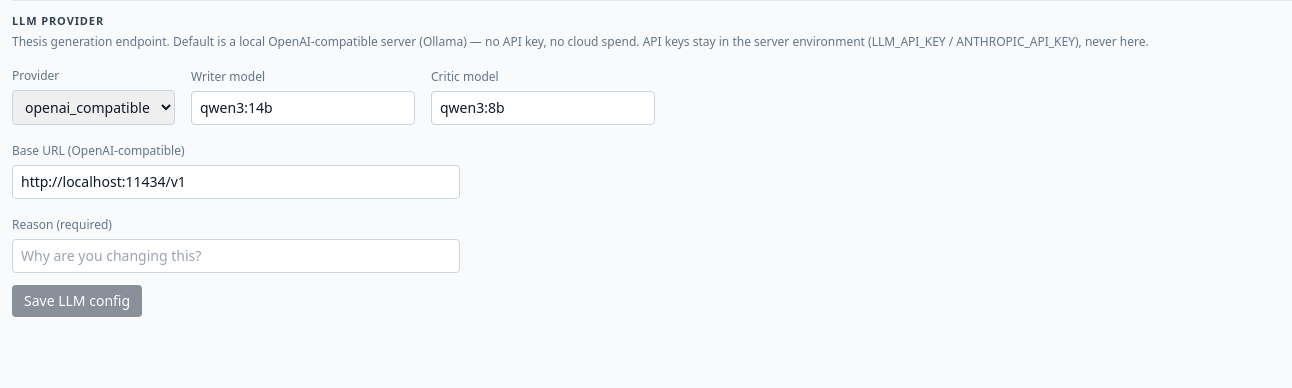
LlmProviderSection › surfaces an alert when save fails
The width and height of the screenshot is (1292, 388).
Select "anthropic" in the dropdown at [94, 107], box [12, 90, 175, 124]
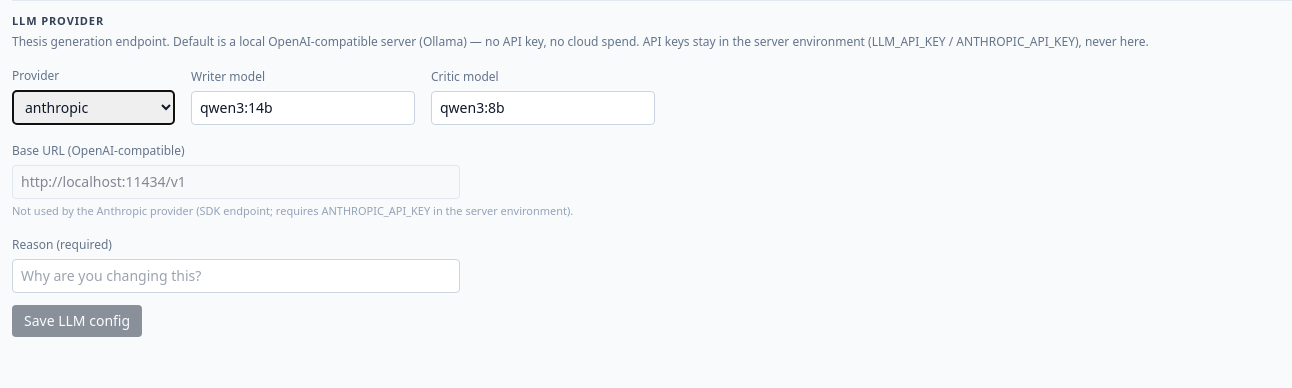
Type "flip" into the field with placeholder "Why are you changing this?" at [236, 276], box [12, 259, 460, 293]
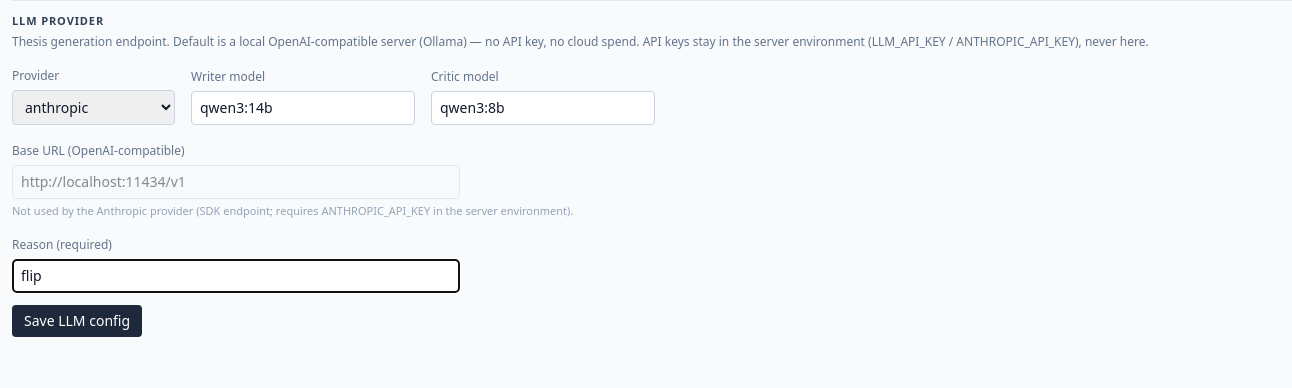
Click the button "Save LLM config" at [77, 321], box [12, 305, 142, 337]
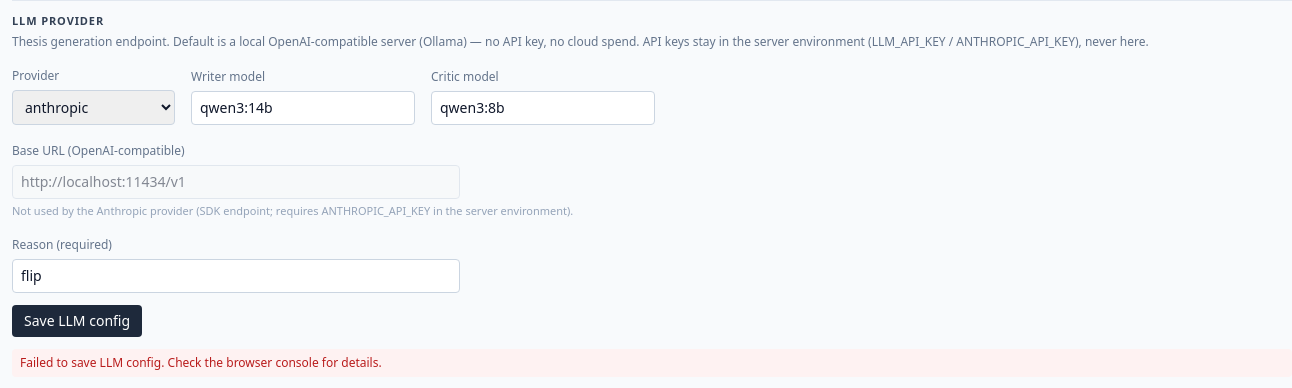
expect the message shows "Failed to save LLM config": met, box [20, 354, 382, 371]
